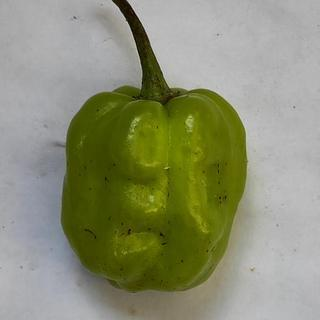Fly-bites: (125, 227, 134, 238), (158, 230, 166, 239), (160, 241, 168, 248), (104, 174, 110, 183), (179, 257, 185, 265), (217, 194, 223, 202), (223, 193, 228, 202), (147, 226, 153, 233)
striped: (81, 227, 99, 241)
